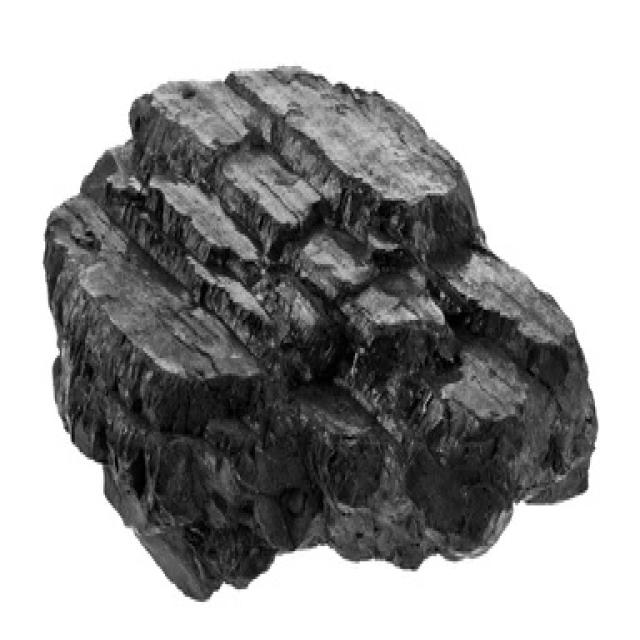Sedimentary: (39, 58, 614, 597)
